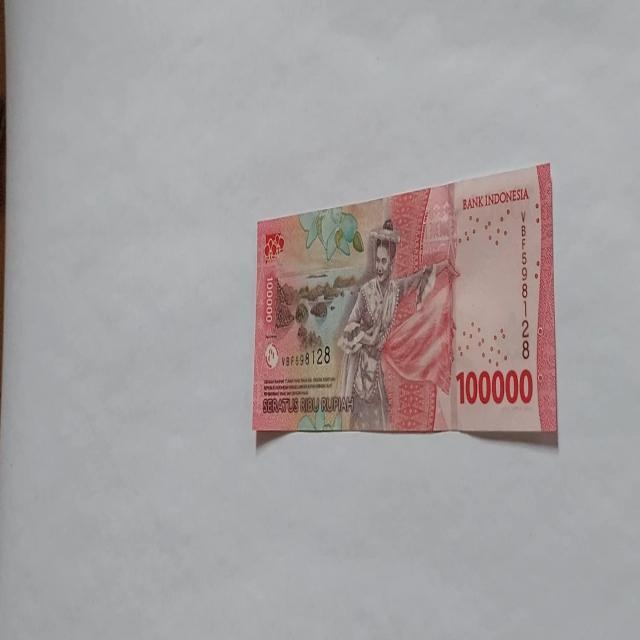seratus ribu rupiah: (252, 161, 558, 440), (334, 218, 440, 431)
